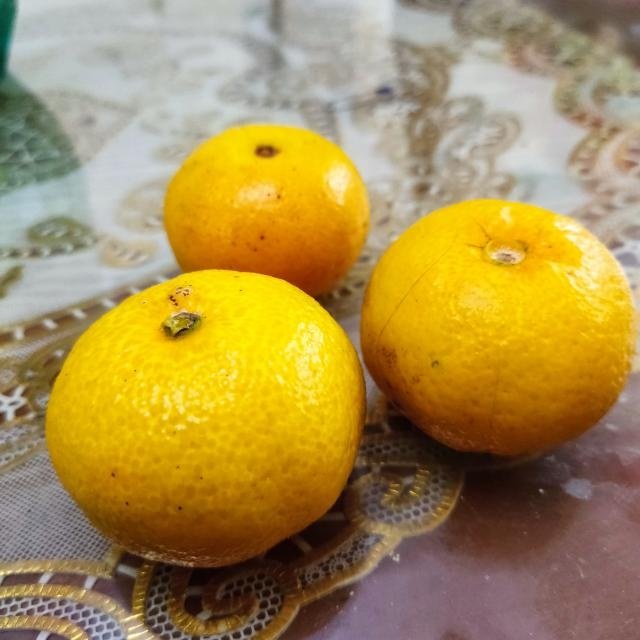agrume: (50, 267, 372, 573), (363, 198, 632, 482), (161, 122, 373, 309)
